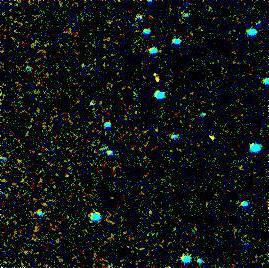star: (146, 65, 176, 95)
